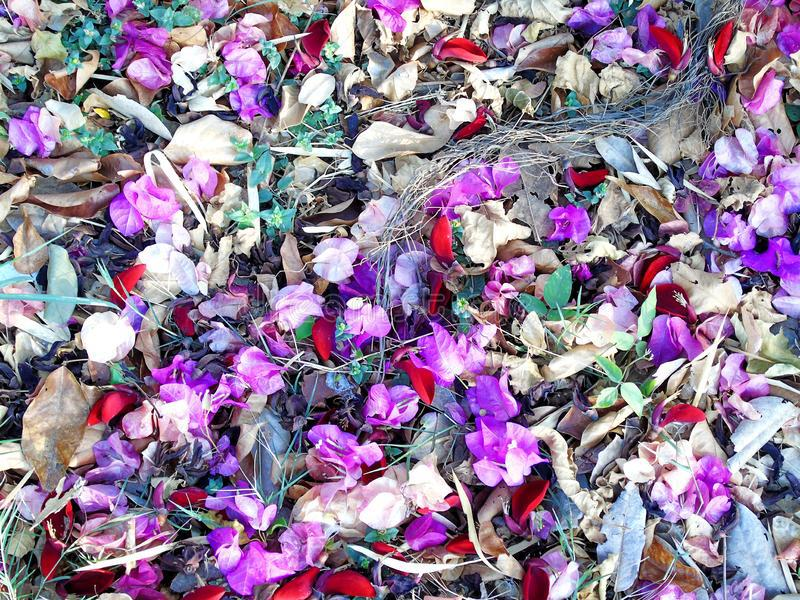flowers: (1, 2, 800, 600)
